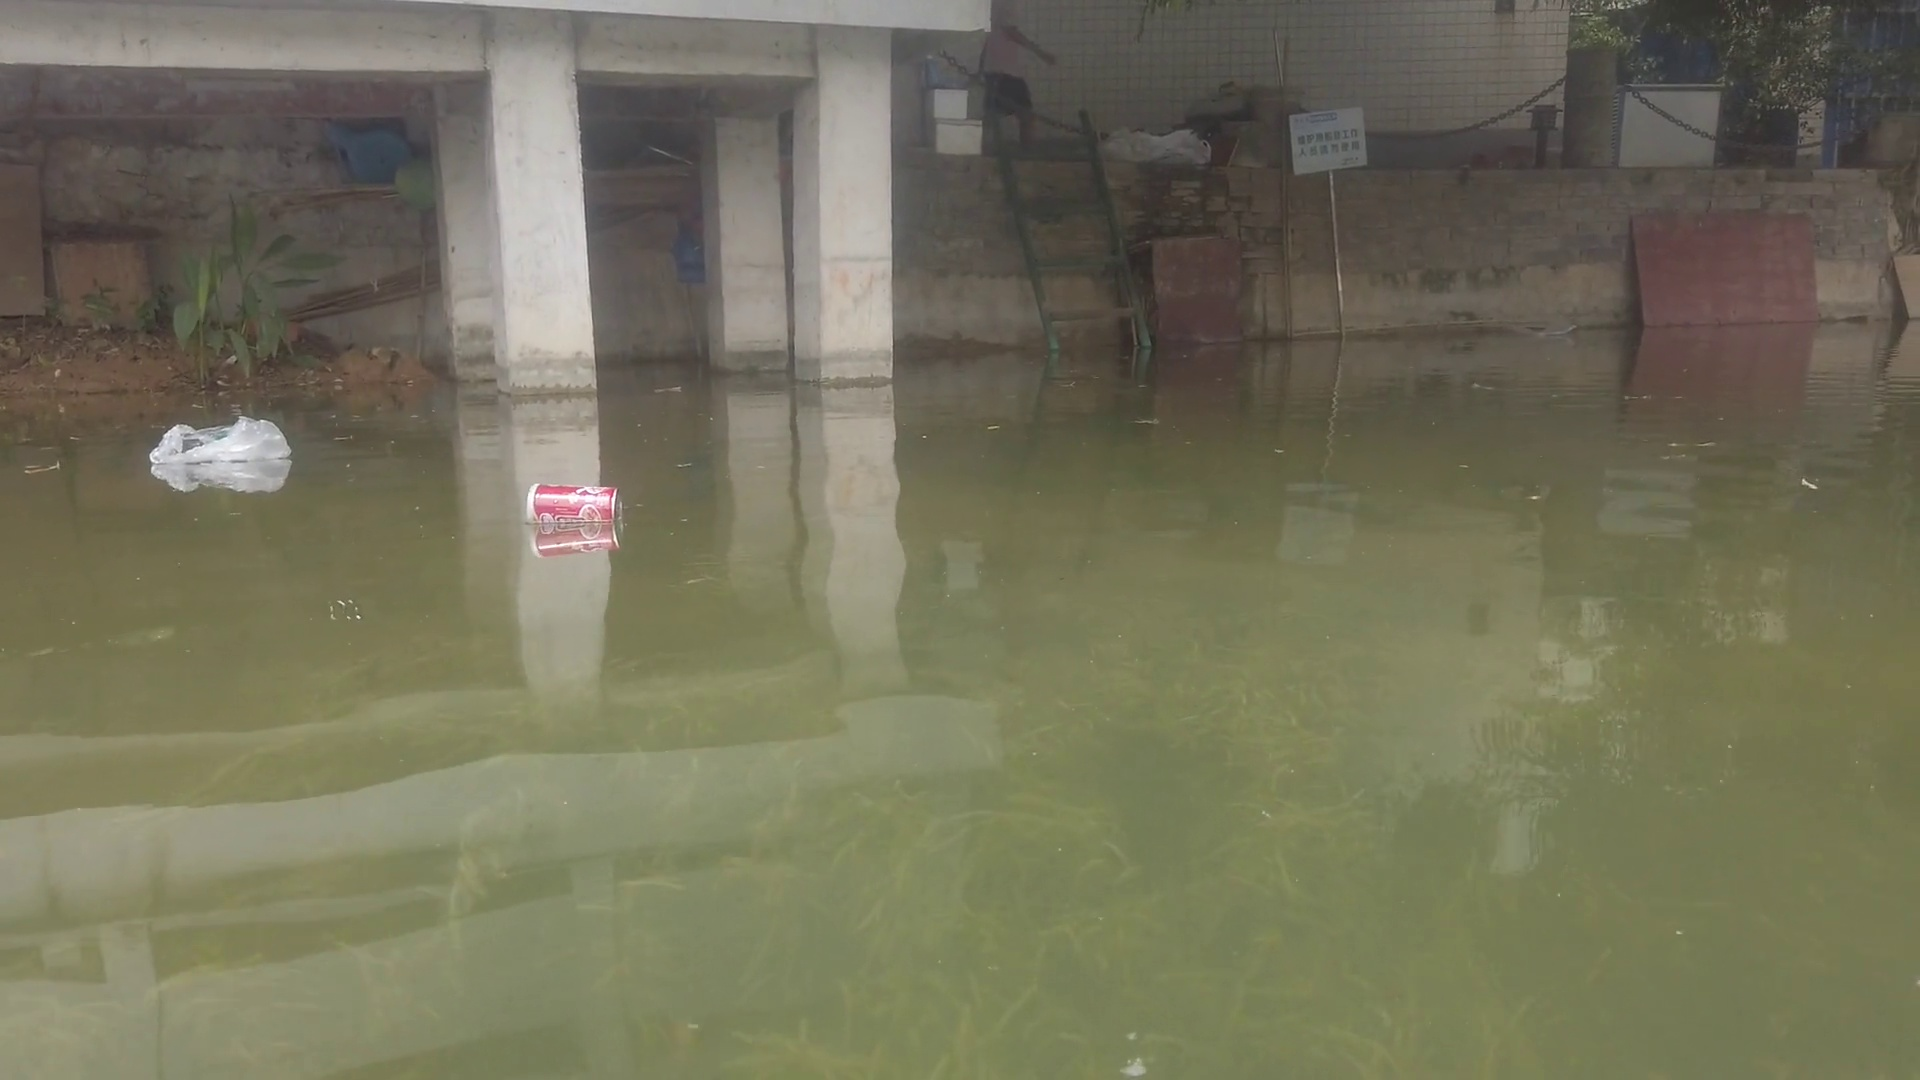bottle: (524, 476, 626, 524)
plastic: (146, 414, 301, 464)
